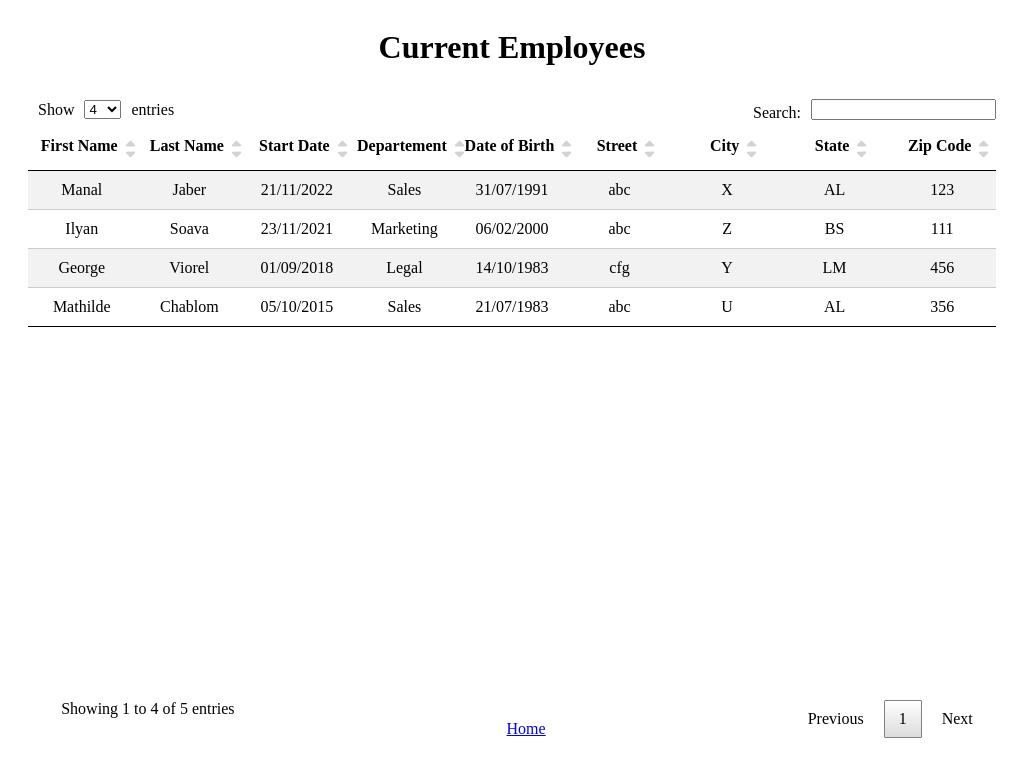
Test: Test for Employee pages › to search in the table
The image size is (1024, 768).
Type "sales" into the field with id "searchInput" at (904, 110), box x1=811 y1=99 x2=996 y2=120
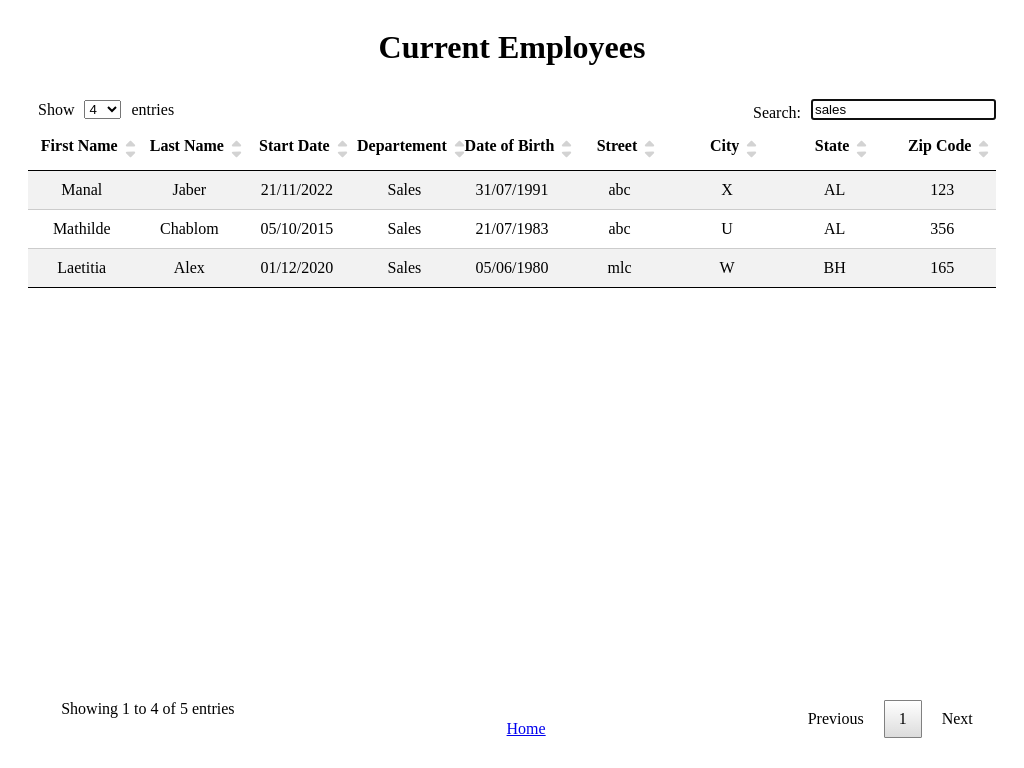
Expected: the cell "Sales" in the row of "Manal" is shown, x1=351 y1=170 x2=459 y2=210
Result: the cell "Sales" in the row of "Mathilde" is shown at x1=351 y1=210 x2=459 y2=249
Result: the cell "Sales" in the row of "Laetitia" is shown at x1=351 y1=249 x2=459 y2=288
